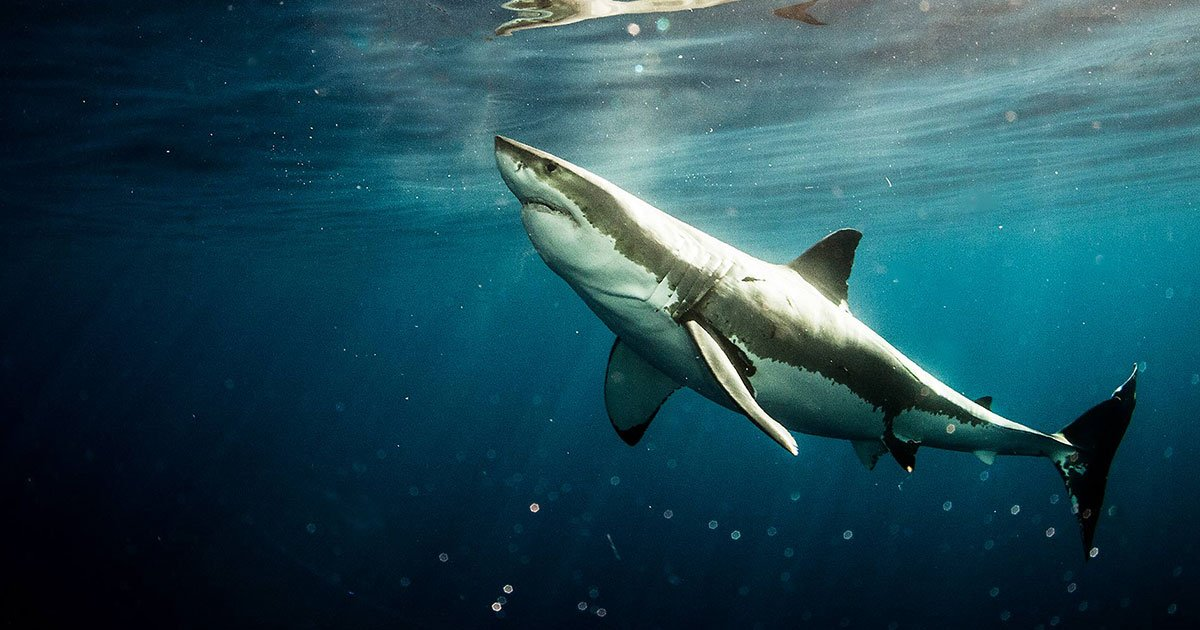shark: (469, 119, 1161, 562)
